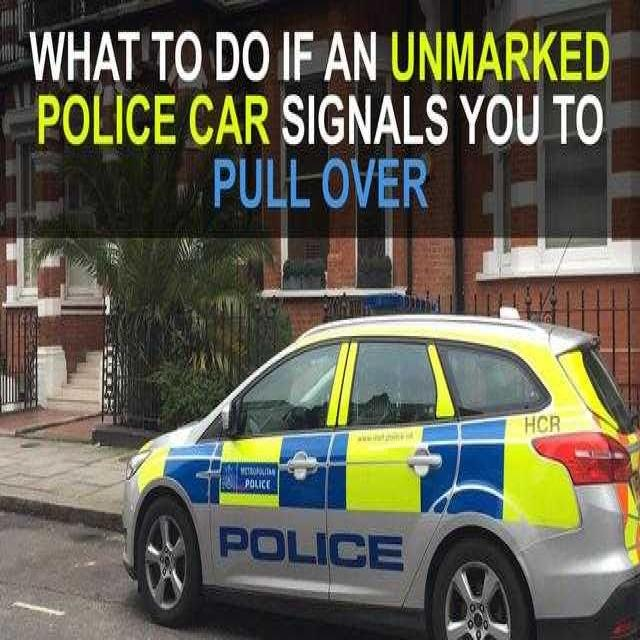firetruck: (105, 278, 639, 640)
